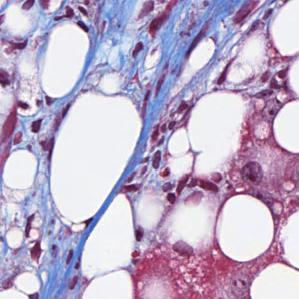inflammation: (159, 171, 221, 206), (150, 119, 182, 174), (27, 114, 60, 165)
